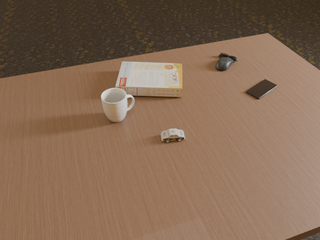box: (116, 62, 182, 97)
cup: (101, 88, 134, 122)
mouse: (216, 53, 238, 71)
phone: (246, 79, 277, 99)
toy_car: (161, 129, 185, 142)
